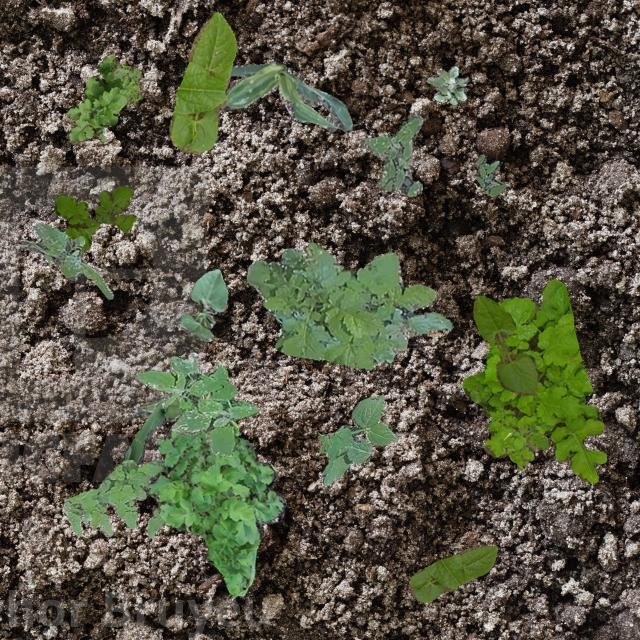crop: (168, 11, 236, 152), (220, 60, 352, 130), (124, 351, 198, 464), (472, 294, 536, 394), (408, 544, 497, 602), (178, 268, 226, 340)
weed: (462, 278, 606, 482), (147, 396, 286, 596), (245, 240, 450, 368), (134, 354, 256, 456), (63, 458, 164, 536), (318, 394, 397, 484), (21, 222, 112, 298), (66, 54, 142, 144), (54, 185, 136, 252), (359, 114, 422, 195), (500, 423, 550, 468), (424, 65, 466, 104), (472, 154, 504, 196)
